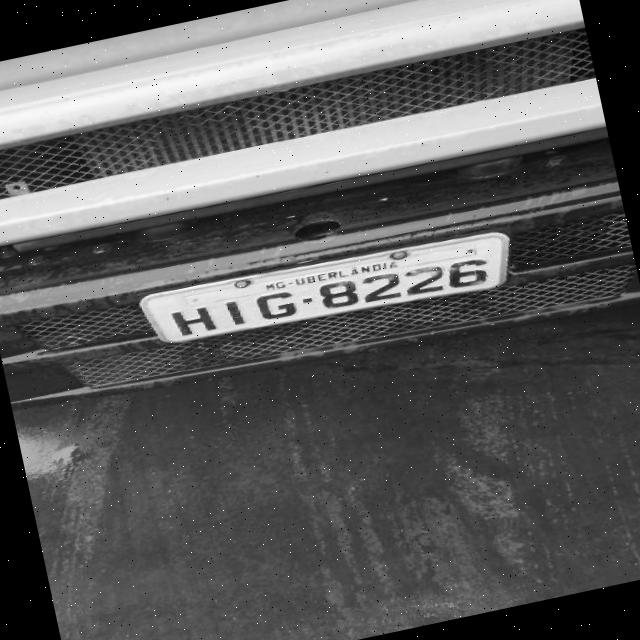placa_antiga: (140, 231, 508, 342)
